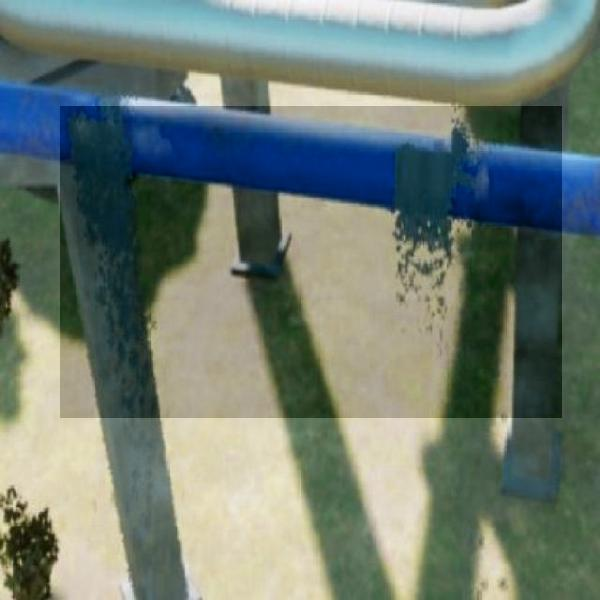gas: (60, 106, 562, 418)
